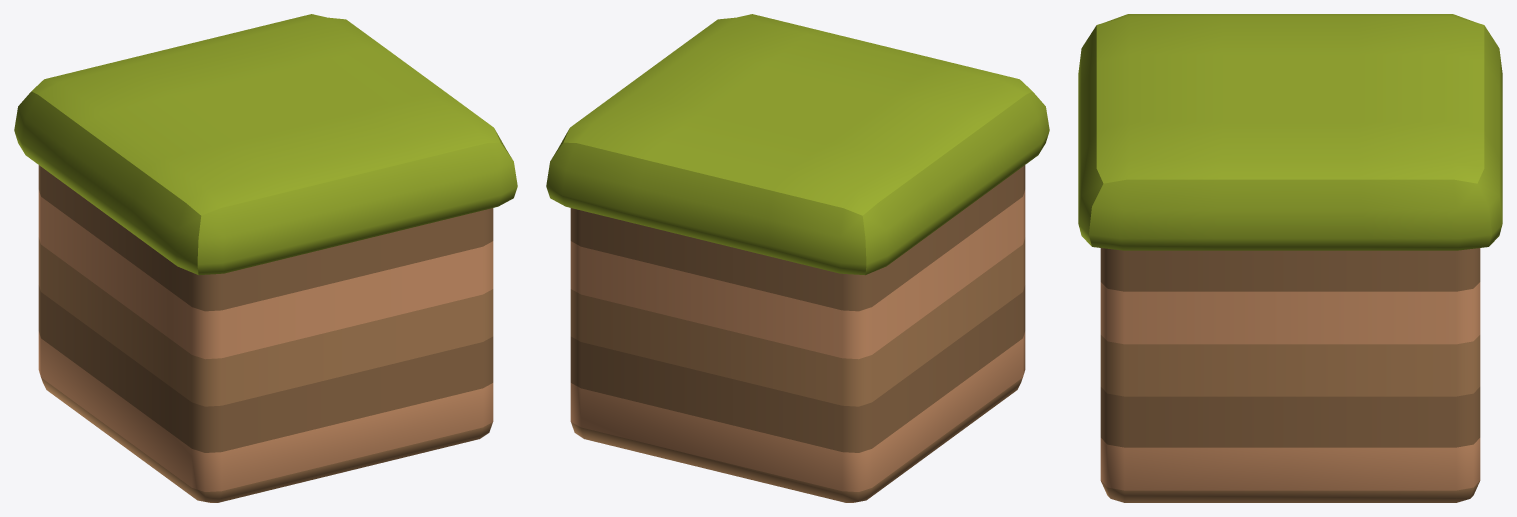
File: Cube_Grass_Single_002.gltf
3 renders of one model, left to right at view 1: azimuth 30°, elevation 25°; view 2: azimuth 150°, elevation 25°; view 3: azimuth 270°, elevation 25°, orthographic. The views are drawn at different scales.
Parts seen in each view (by area): view 1: Cube_Grass_Single.002; view 2: Cube_Grass_Single.002; view 3: Cube_Grass_Single.002.
Part boxes in pixels (x1,y1,x2,y2): Cube_Grass_Single.002: (14, 14, 517, 502); Cube_Grass_Single.002: (546, 14, 1049, 502); Cube_Grass_Single.002: (1078, 14, 1502, 502).
Bounding box in the file's own units: 2.23 × 2 × 2.23.
